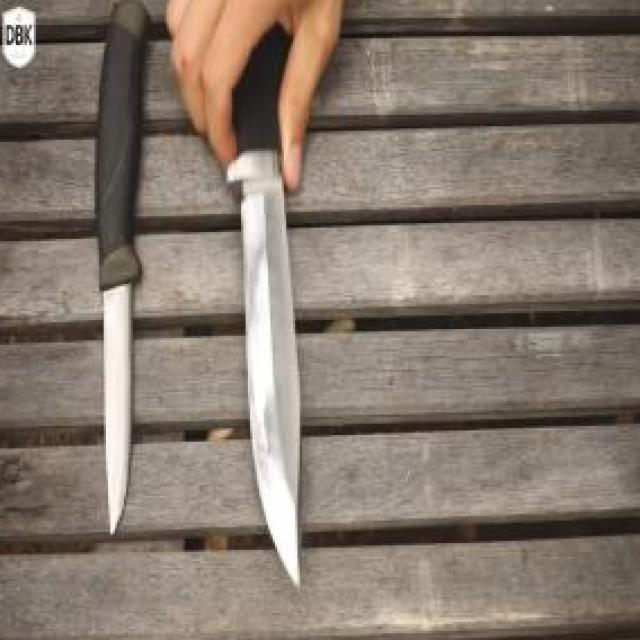knife: (198, 77, 324, 604), (79, 200, 146, 556)
